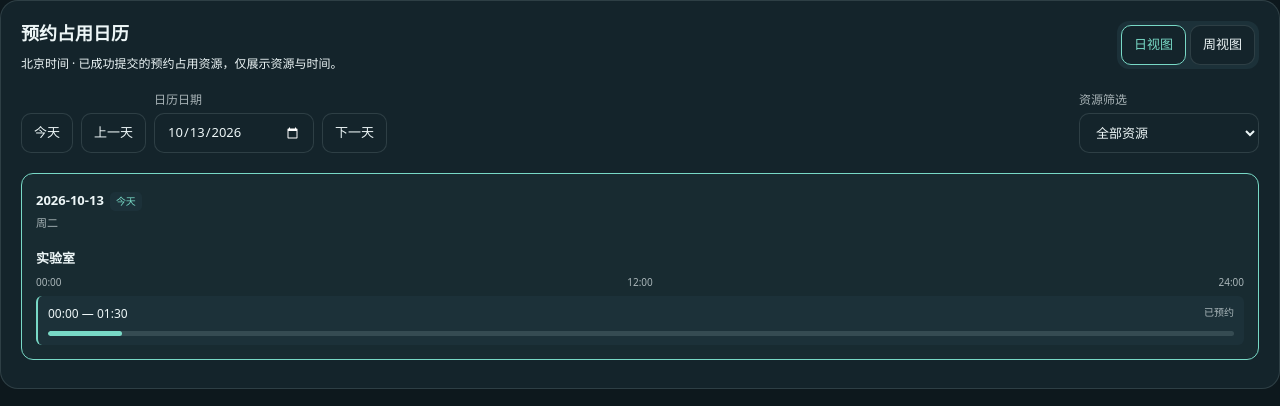
it: booking occupancy calendar › clips Shanghai cross-midnight bookings and never renders extra private fields
Click the button "周视图" at (1222,45), box [1190,25,1255,65]
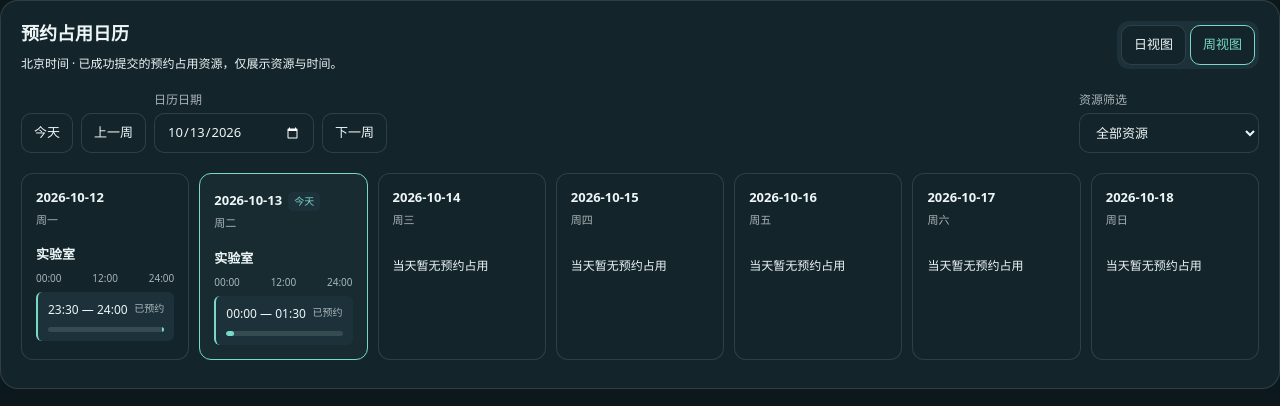
Expected: the text "00:00 — 01:30" is shown, [226,304,306,322]
Expected: the text "23:30 — 24:00" is shown, [48,301,128,319]
Click the button "下一周" at (354,133), box [322,113,387,153]
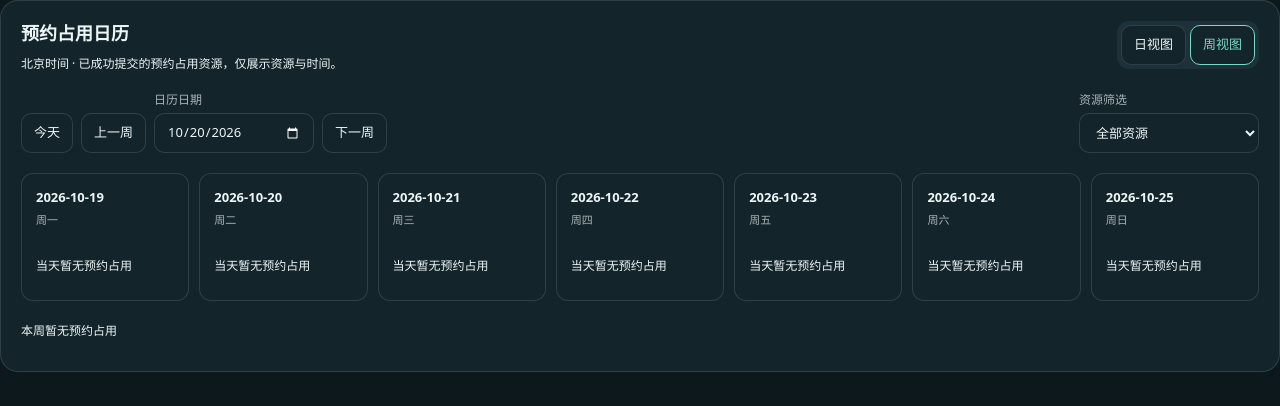
Expected: the date field labelled "日历日期" holds "2026-10-20", [154,113,314,153]
Expected: the message reads "本周暂无预约占用", [21,322,117,339]
